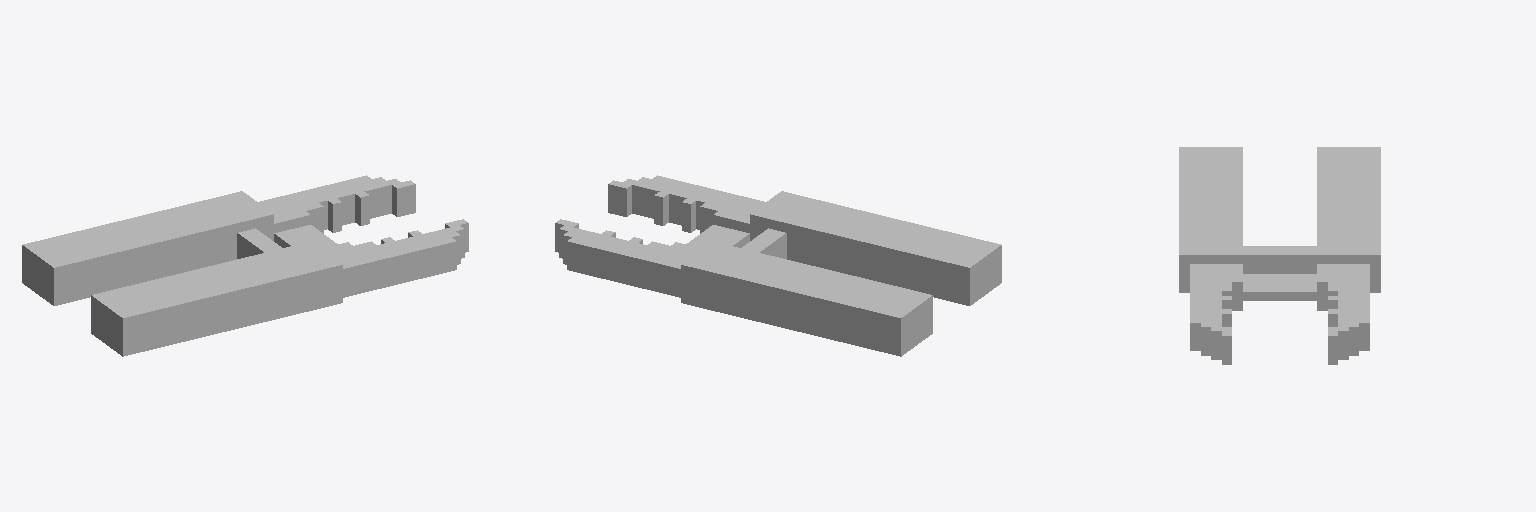
File: стрипер  для оболочки.obj
3 renders of one model, left to right at view 1: azimuth 30°, elevation 25°; view 2: azimuth 150°, elevation 25°; view 3: azimuth 270°, elevation 25°, orthographic.
Visible parts, largest first — view 1: object 1; view 2: object 1; view 3: object 1.
Boxes of the visible parts, box(x1,y1,x2,y2) form: object 1: box(22, 175, 468, 356); object 1: box(555, 175, 1001, 356); object 1: box(1179, 147, 1380, 364).
Bounding box in the file's own units: 4 × 0.4 × 1.9.